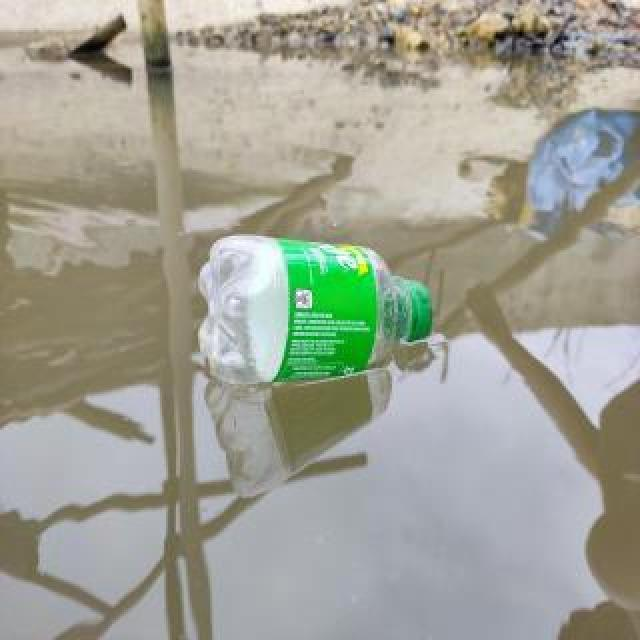bottle: (195, 228, 437, 390)
